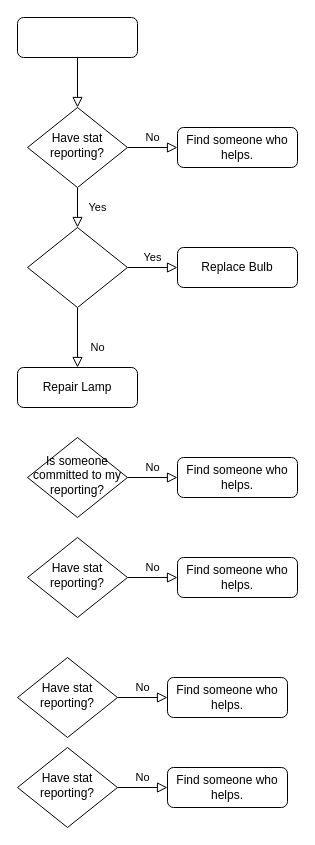
Some shapes in this 315 by 845 pixel diagram are drawn without their labels. Each missing label, with the centre of its shape:
"Bulb burned out?" belongs at pixel 77 267.
"My company does health care research" belongs at pixel 77 37.
